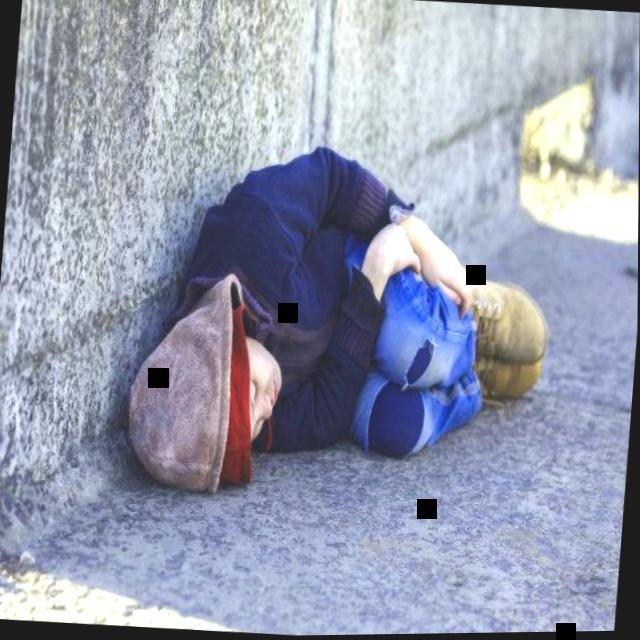Fall-Detected: (117, 128, 585, 504)
